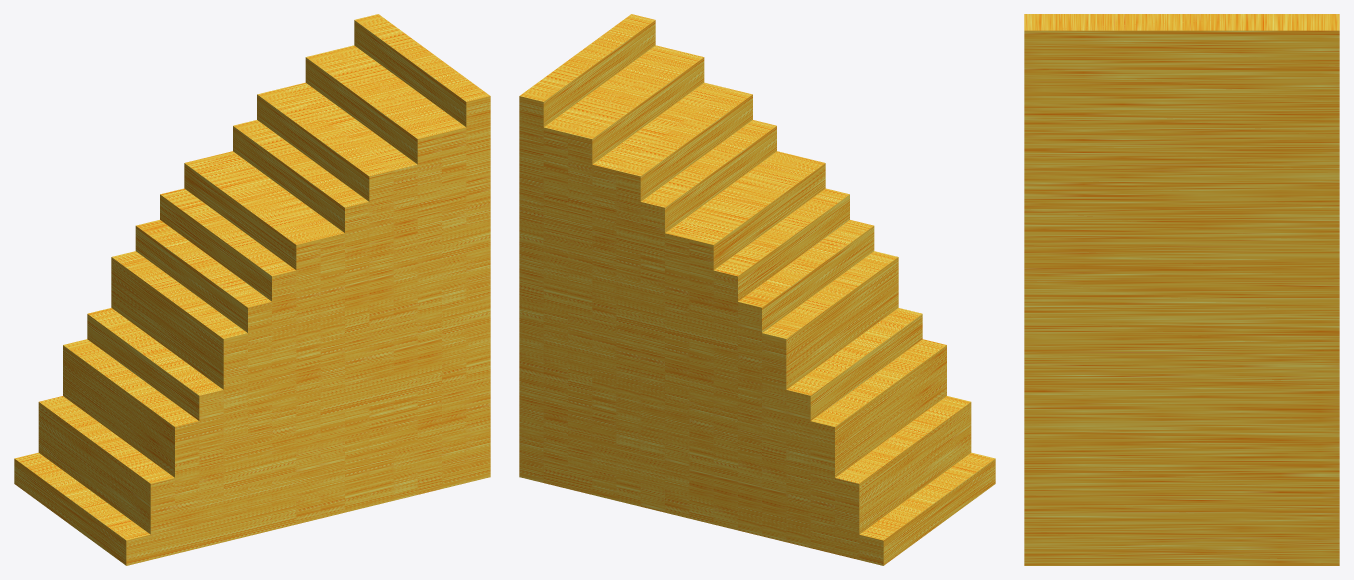
File: tier2_piece_00.obj
3 views of the same model, side by side, from view 1: azimuth 30°, elevation 25°; view 2: azimuth 150°, elevation 25°; view 3: azimuth 270°, elevation 25° (orthographic). The views are drawn at different scales.
Parts seen in each view (by area): view 1: tier2_piece_00; view 2: tier2_piece_00; view 3: tier2_piece_00.
Part boxes in pixels (x1,y1,x2,y2): tier2_piece_00: (14,14,490,565); tier2_piece_00: (519,14,995,565); tier2_piece_00: (1024,14,1339,565).
Size of the model in its own units: 0.9375 by 0.9375 by 0.5.
